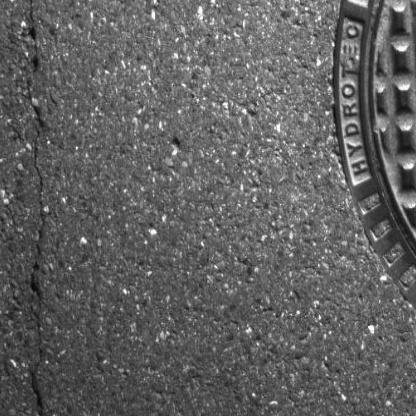Cracks: (21, 0, 53, 416)
